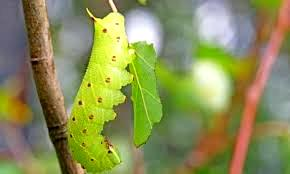Caterpillar: (59, 11, 135, 174)
